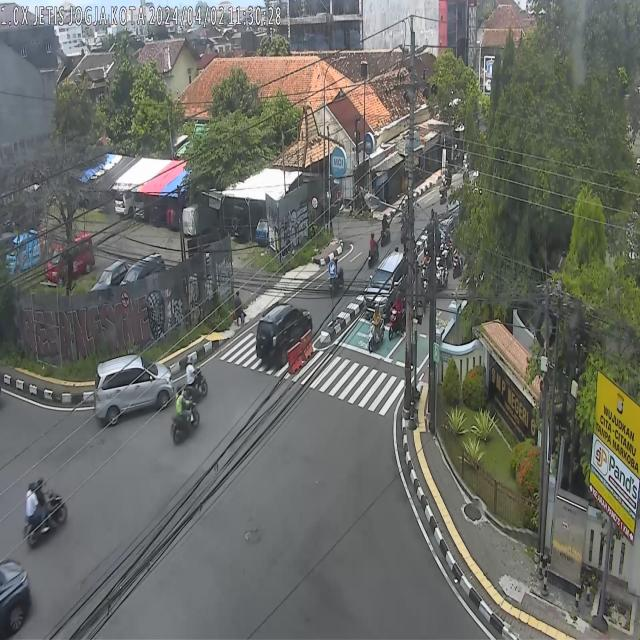car: (94, 353, 174, 426), (256, 302, 313, 368), (363, 252, 408, 320), (0, 558, 34, 634)
motorcycle: (22, 475, 68, 545), (172, 385, 200, 445), (179, 356, 208, 400), (388, 289, 406, 342), (368, 302, 385, 352), (330, 259, 344, 297), (436, 252, 449, 290), (451, 246, 464, 280), (368, 231, 379, 267), (443, 233, 454, 268), (381, 214, 390, 248)
